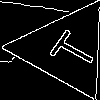T: (40, 24, 100, 74)
